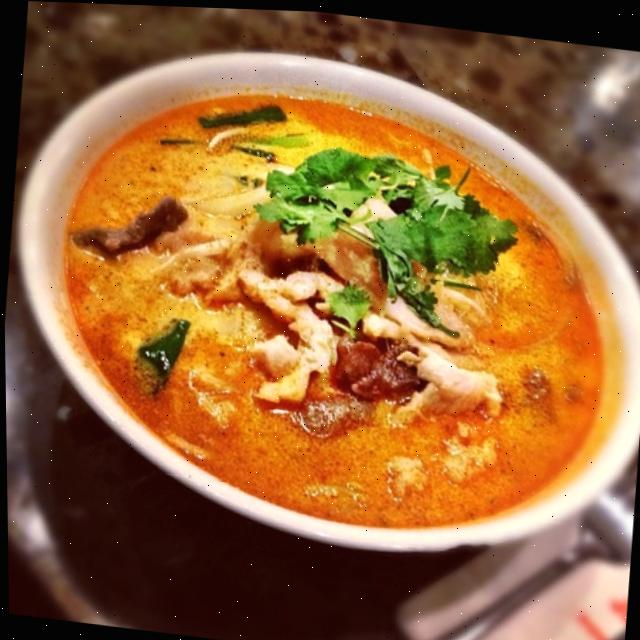面条主食: (0, 5, 640, 592)
